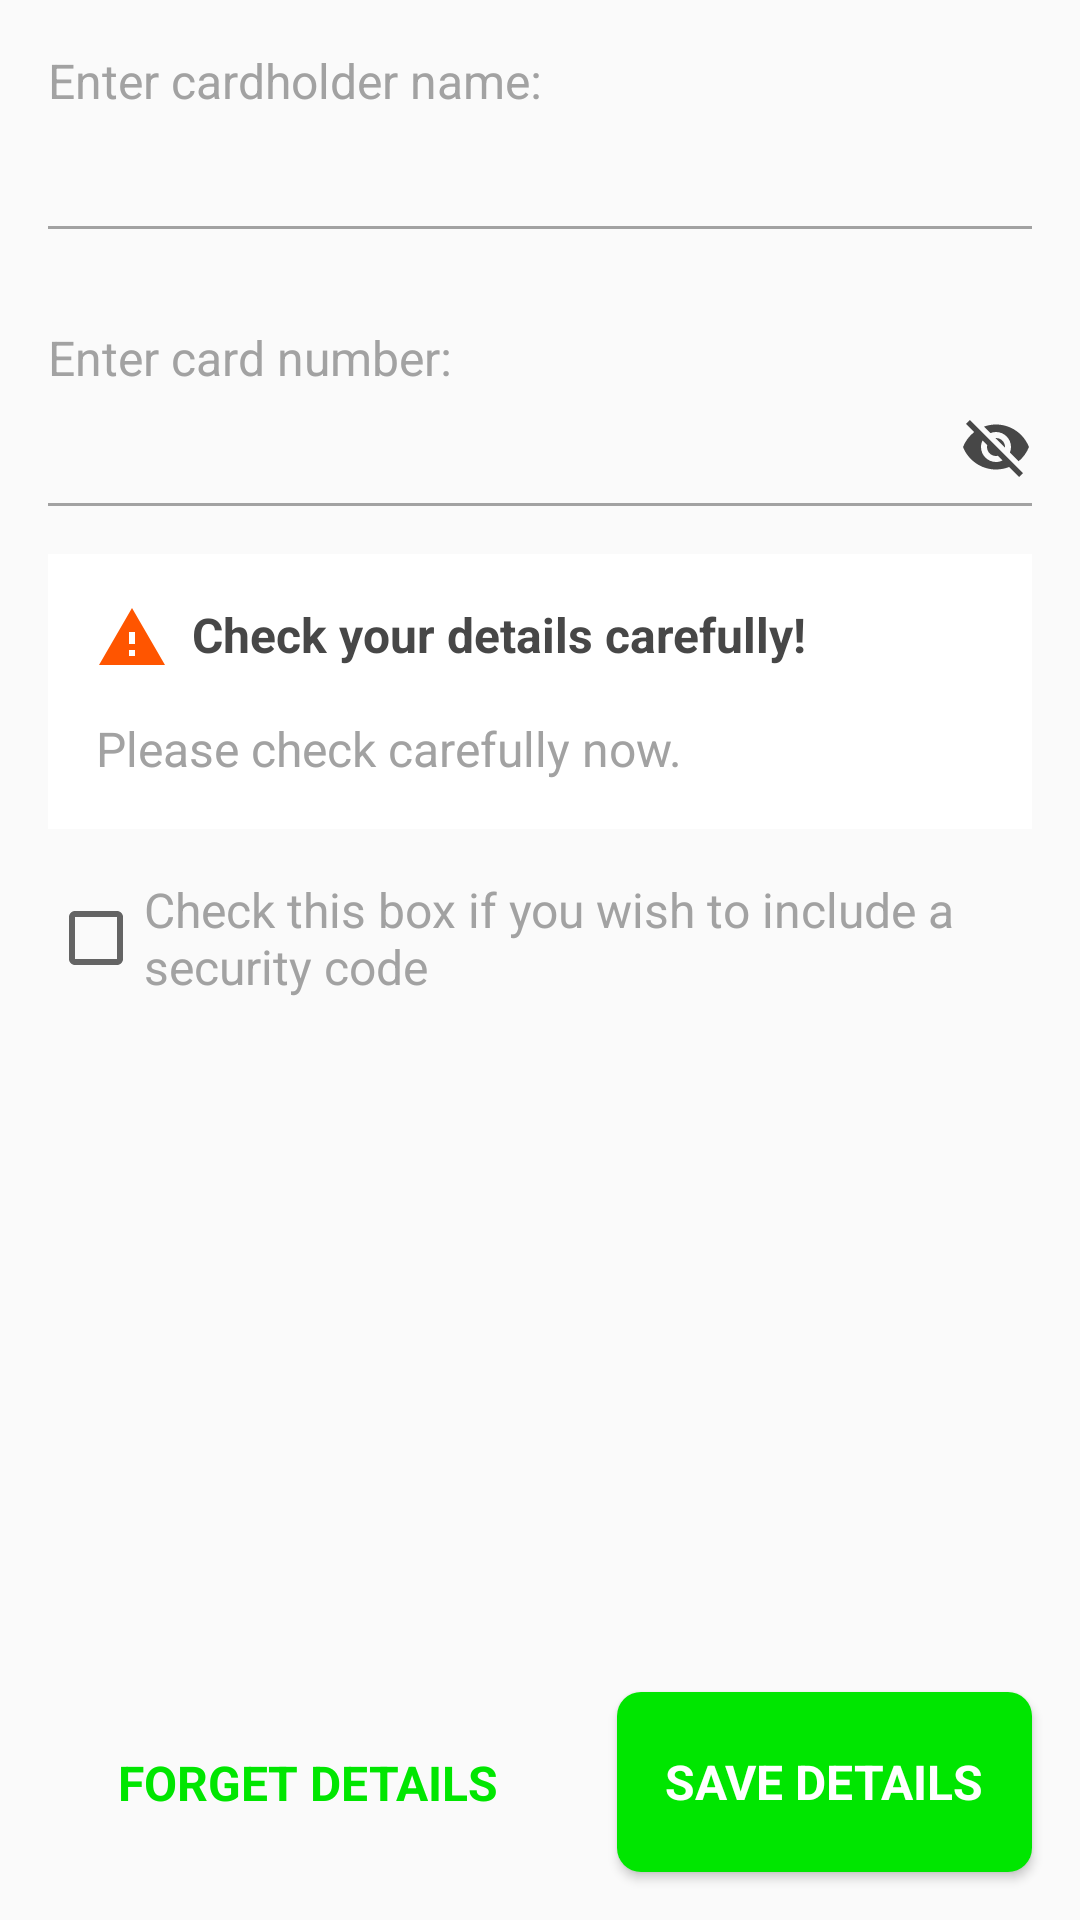

Where icons sit on this 1080w x 1920h app screen, as [x1, y1, x2, y2]:
visibility off: [963, 420, 1029, 477]
